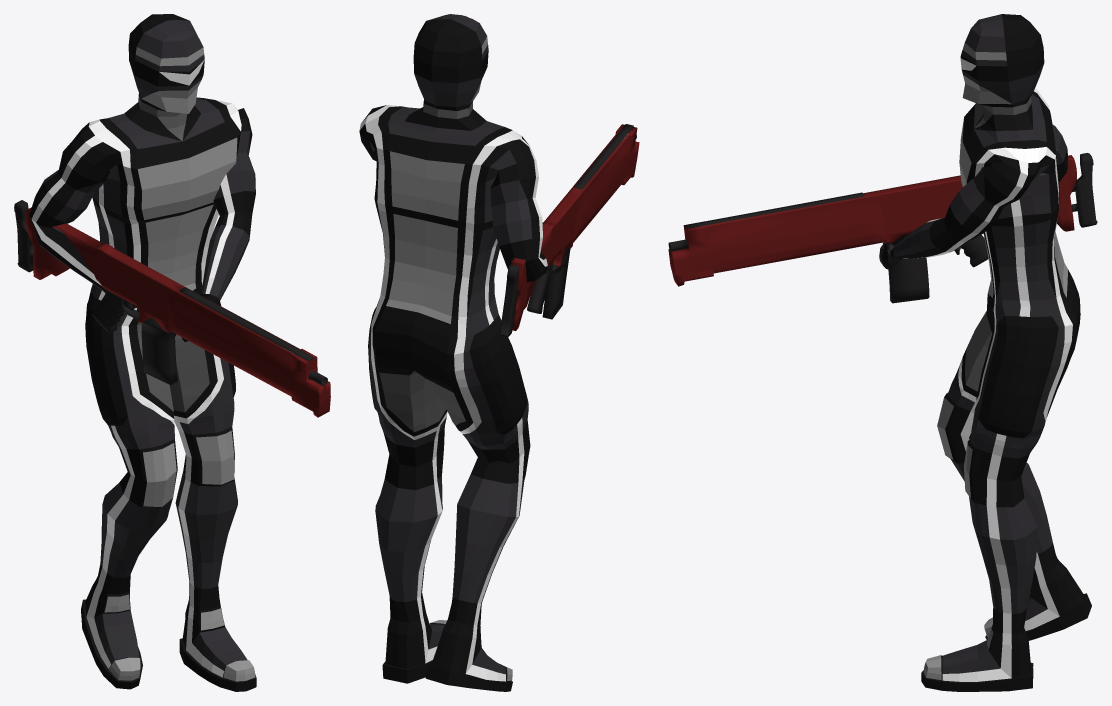
The model's file is ASR9.obj.
3 renders of one model, left to right at view 1: azimuth 30°, elevation 25°; view 2: azimuth 150°, elevation 25°; view 3: azimuth 270°, elevation 25°, orthographic. The views are drawn at different scales.
Parts seen in each view (by area): view 1: metarig_object_metarig_mesh, metarig_object.001_metarig_mesh.001; view 2: metarig_object_metarig_mesh, metarig_object.001_metarig_mesh.001; view 3: metarig_object_metarig_mesh, metarig_object.001_metarig_mesh.001.
Boxes of the visible parts, x1,y1,x2,y2 form: metarig_object_metarig_mesh: (29,14,256,691); metarig_object.001_metarig_mesh.001: (14,200,330,417); metarig_object_metarig_mesh: (359,14,547,691); metarig_object.001_metarig_mesh.001: (499,124,639,337); metarig_object_metarig_mesh: (879,14,1091,691); metarig_object.001_metarig_mesh.001: (668,153,1097,303).
Bounding box in the file's own units: 0.5739 × 1.86 × 1.12.
Materials: 2 (2 with a texture image).
